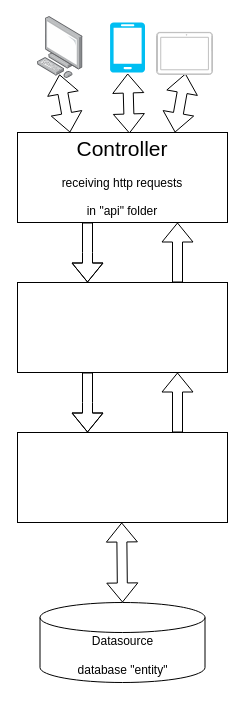
The diagram is 245 pixels wide and 701 high, and some of its shapes have lost their labels. Here are the shapes that lost their labels. From the top down, the centre of each, then its label:
the point at 122,327: Service DTO management in "service" folder
the point at 122,477: Repository handle data management with DB in "repository" folder
